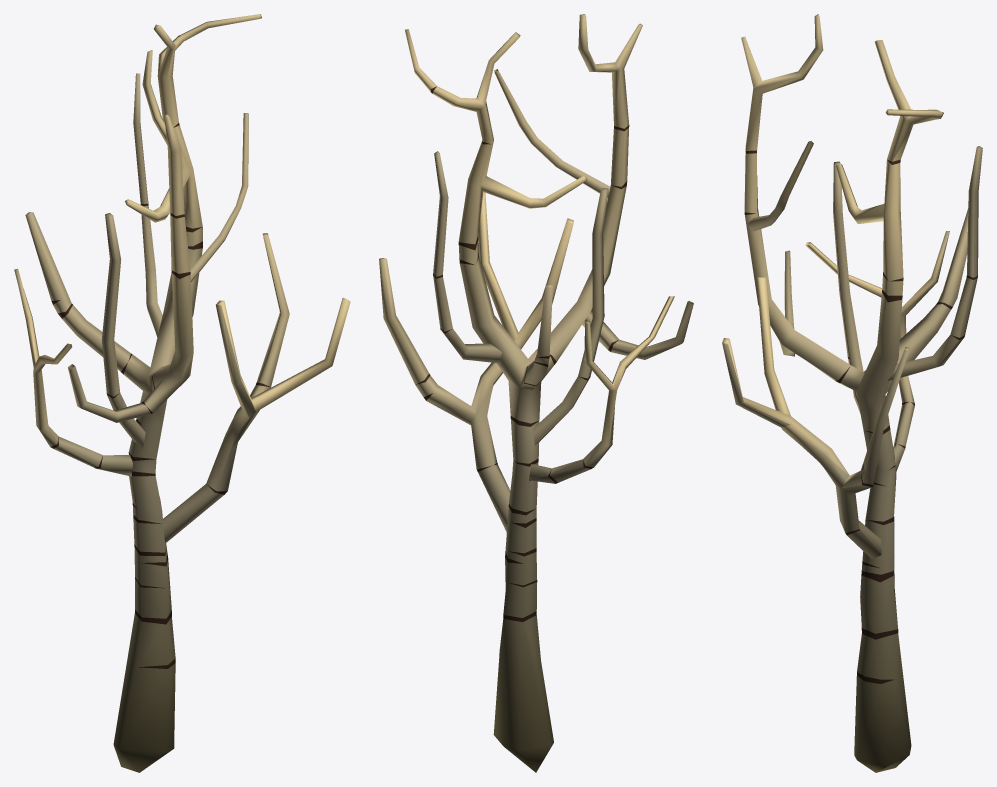
Rendered from Dry_Tree_2A.fbx.
3 renders of one model, left to right at view 1: azimuth 30°, elevation 25°; view 2: azimuth 150°, elevation 25°; view 3: azimuth 270°, elevation 25°, orthographic. The views are drawn at different scales.
Parts seen in each view (by area): view 1: Dry_Tree_2A; view 2: Dry_Tree_2A; view 3: Dry_Tree_2A.
Boxes of the visible parts, left/top/right/bottom form: Dry_Tree_2A: left=14, top=14, right=350, bottom=772; Dry_Tree_2A: left=379, top=14, right=693, bottom=772; Dry_Tree_2A: left=722, top=14, right=982, bottom=772.
Size of the model in its own units: 474 by 1265 by 399.
